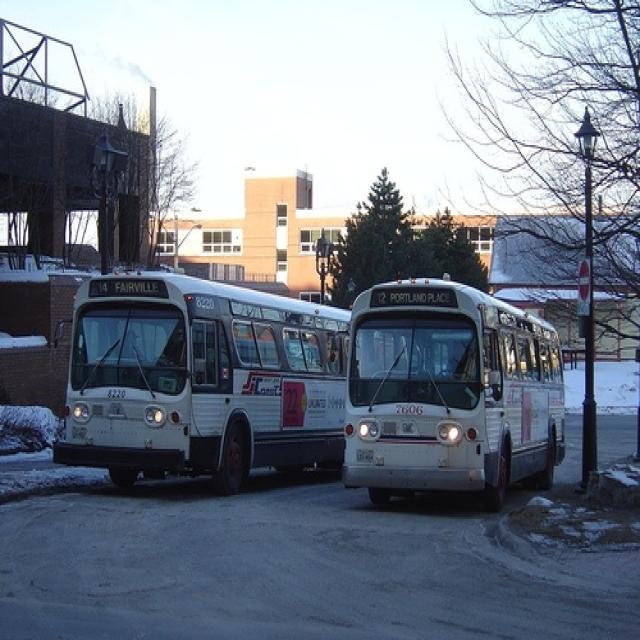bus: (51, 269, 352, 491), (343, 276, 565, 504)
